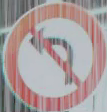Don't turn left: (5, 7, 92, 99)
